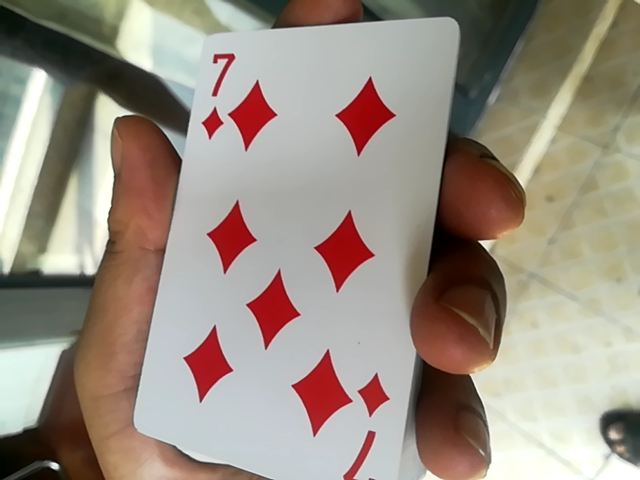fk 7: (134, 18, 436, 466)
